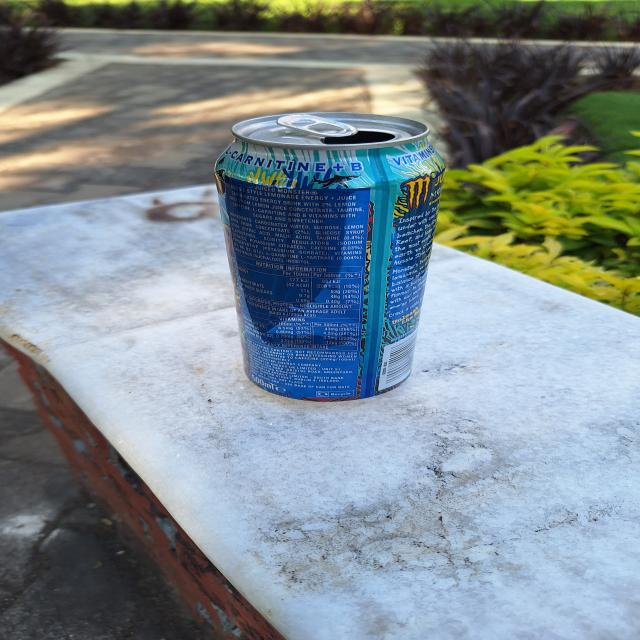Monster Aussie Lemonade: (223, 119, 435, 402)
